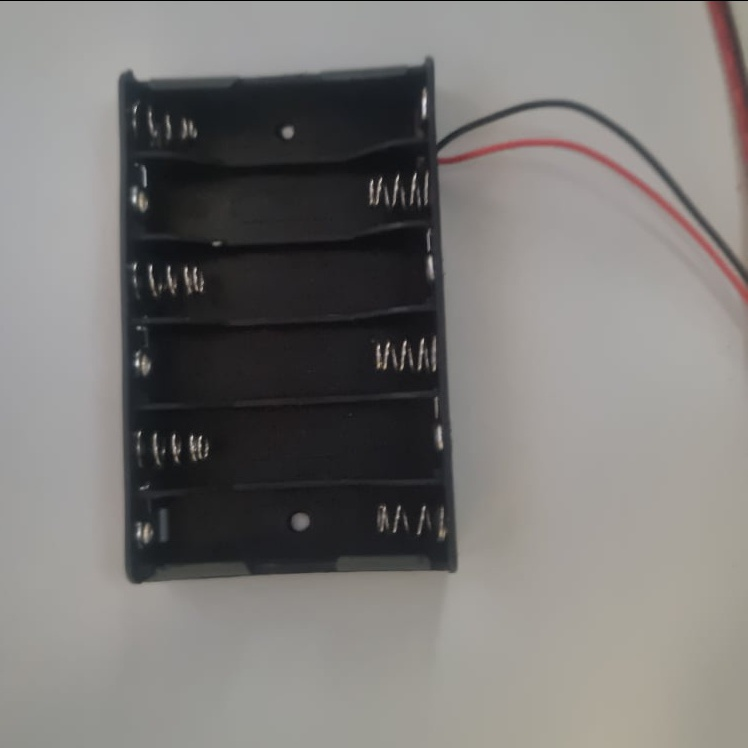BATTERY BOX: (120, 67, 457, 584)
